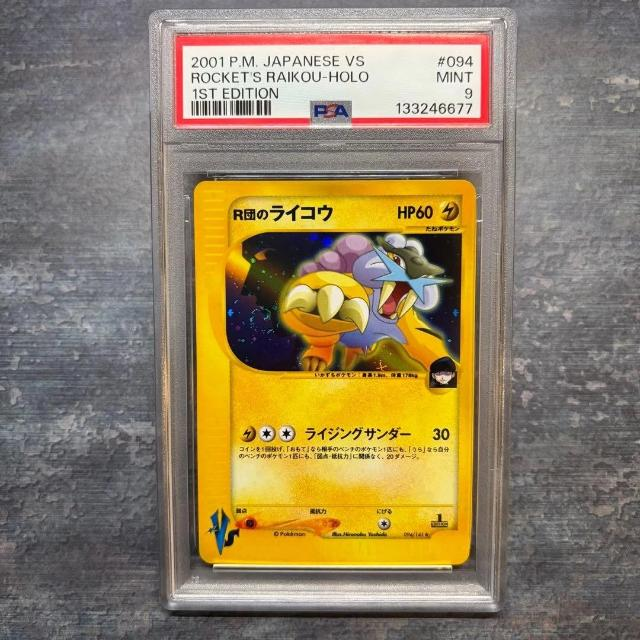Card: (190, 174, 482, 571)
Name: (232, 197, 337, 227)
